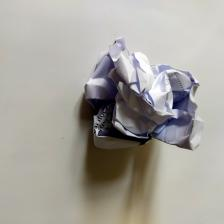Paper: (77, 47, 197, 169)
